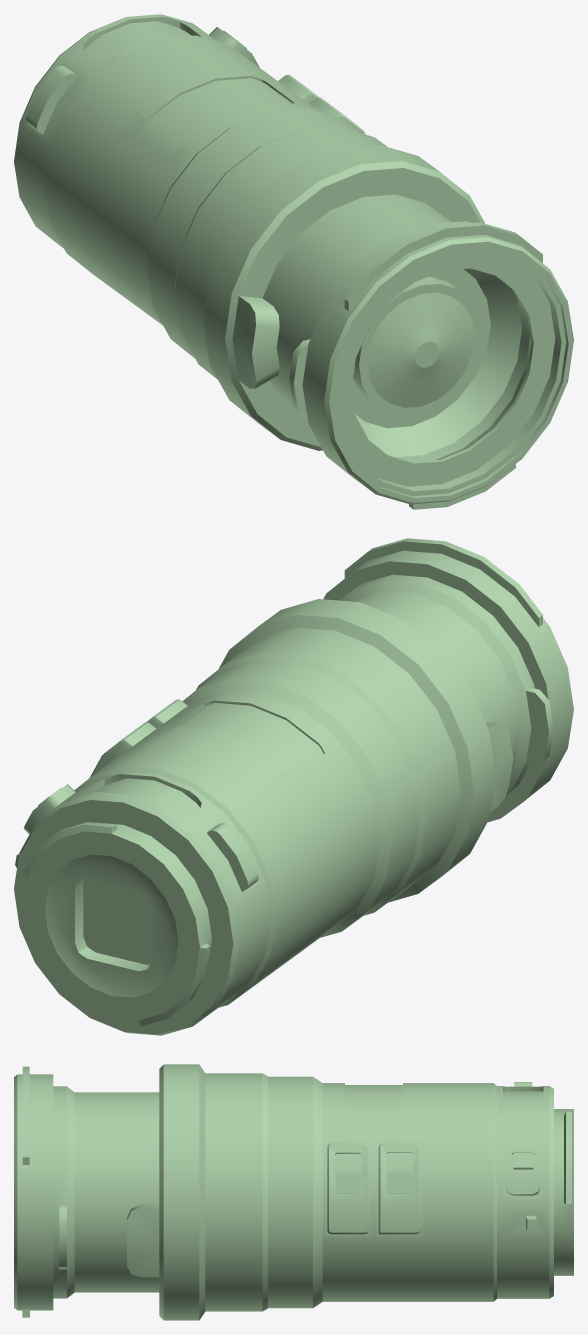
The model's file is Modern Zoom Lens.fbx.
The picture shows the model from 3 angles, top to bottom: view 1: azimuth 30°, elevation 25°; view 2: azimuth 150°, elevation 25°; view 3: azimuth 270°, elevation 25°; orthographic projection. The views are drawn at different scales.
Visible parts, largest first — view 1: Cylinder; view 2: Cylinder; view 3: Cylinder.
Part boxes in pixels (box(x1,y1,x2,y2)): Cylinder: box(14, 14, 573, 509); Cylinder: box(14, 538, 573, 1035); Cylinder: box(14, 1064, 573, 1320).
Bounding box in the file's own units: 9.87 × 9.87 × 21.43.
